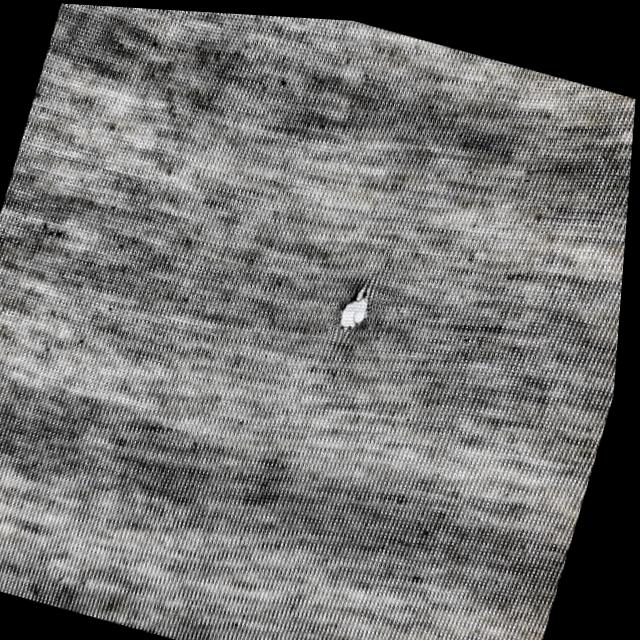Hole: (333, 262, 388, 345)
